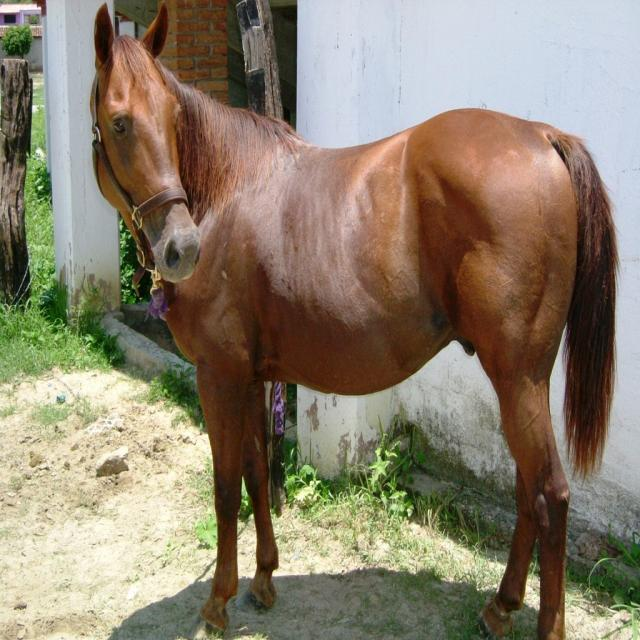Horse: (89, 0, 618, 639)
